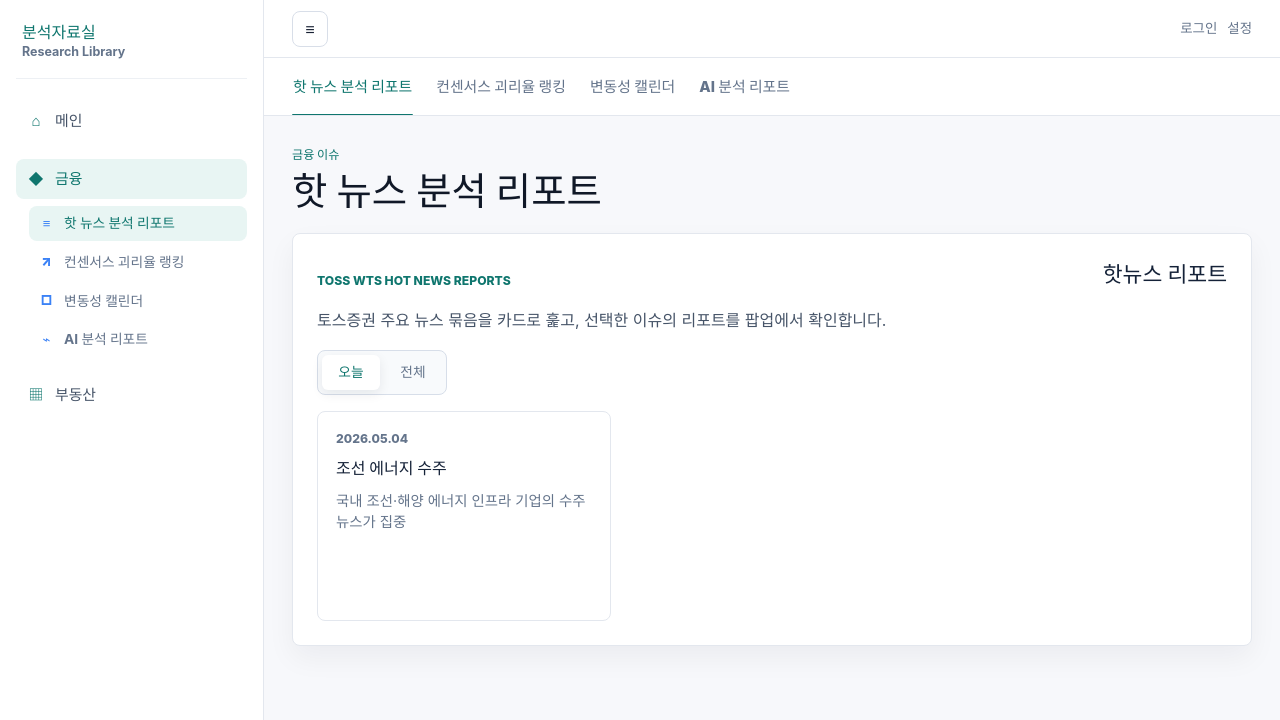
Test case: App routing › keeps base-prefixed browser paths when navigating finance tabs
Click the tab "AI 분석 리포트" at (745, 94), box x1=698 y1=73 x2=791 y2=115
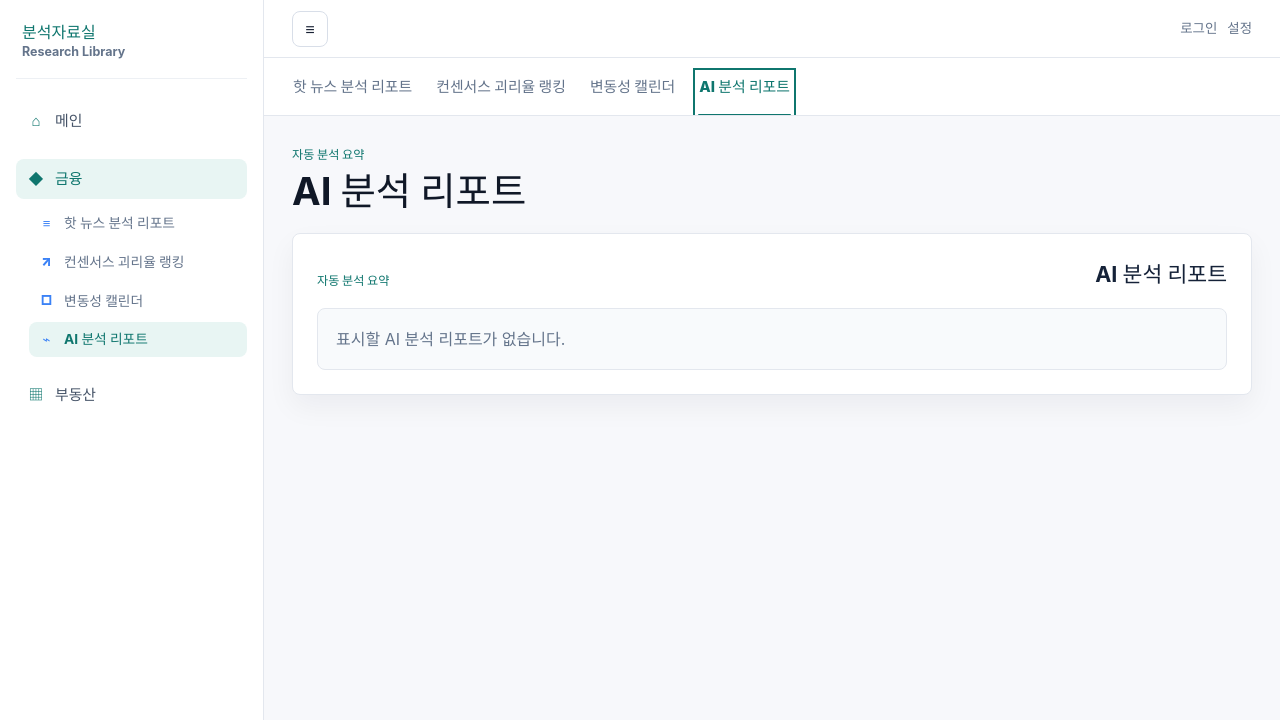
Check: the 1st heading "AI 분석 리포트" is shown, box x1=292 y1=168 x2=526 y2=214
